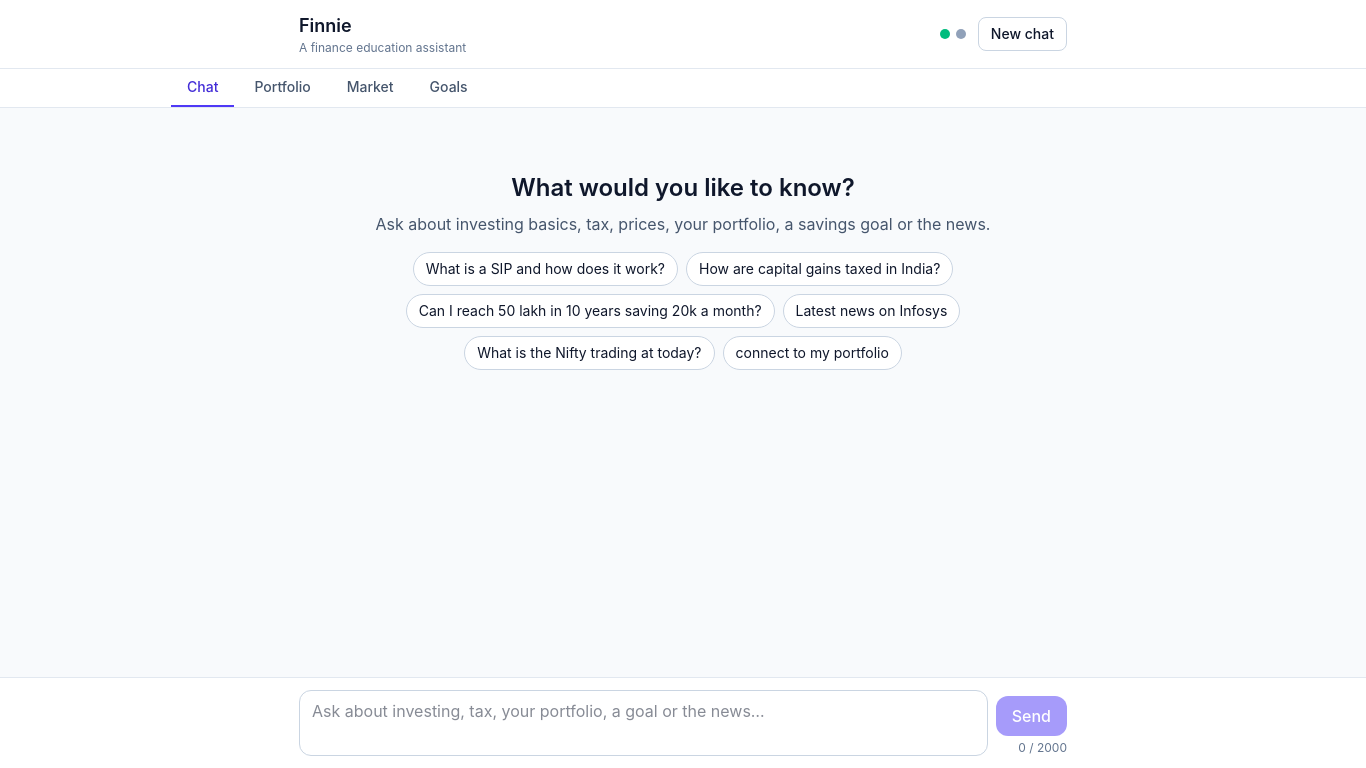
Test: App › sends the connect command when a portfolio source is picked
This screenshot has width=1366, height=768.
Type "connect to my portfolio" into the text box at (643, 723), box [299,690,988,756]
Then press Enter
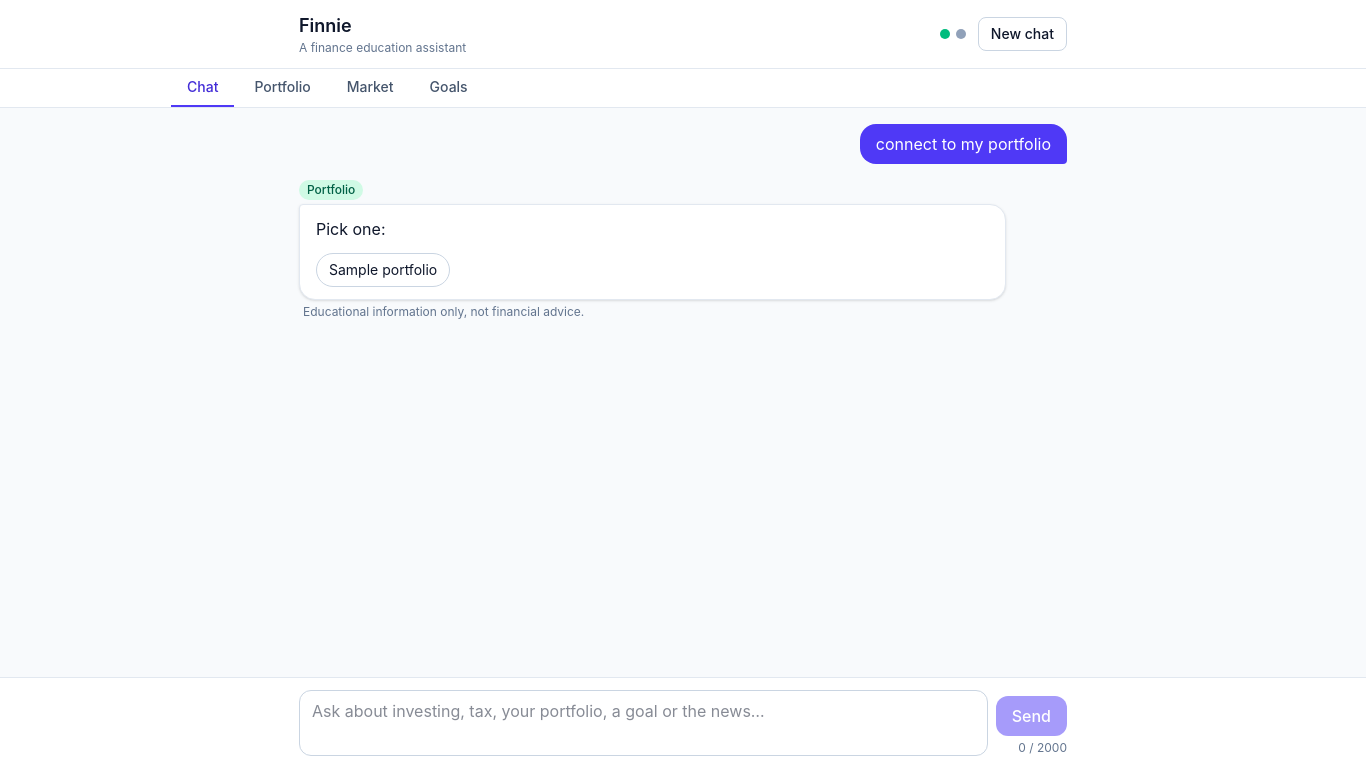
Click the button "Sample portfolio" at (383, 270), box [316,253,450,287]
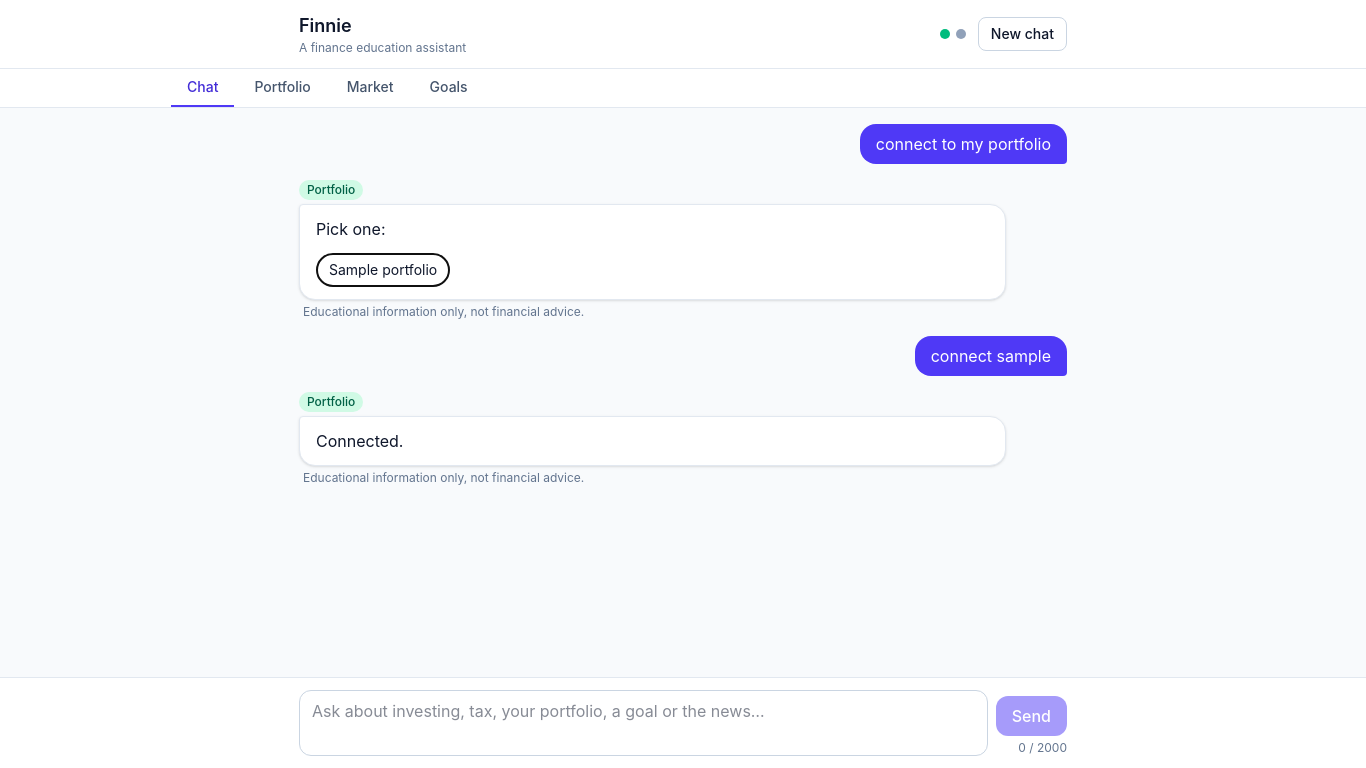
Now the text "Connected." is shown, box [316,431,404,451]
